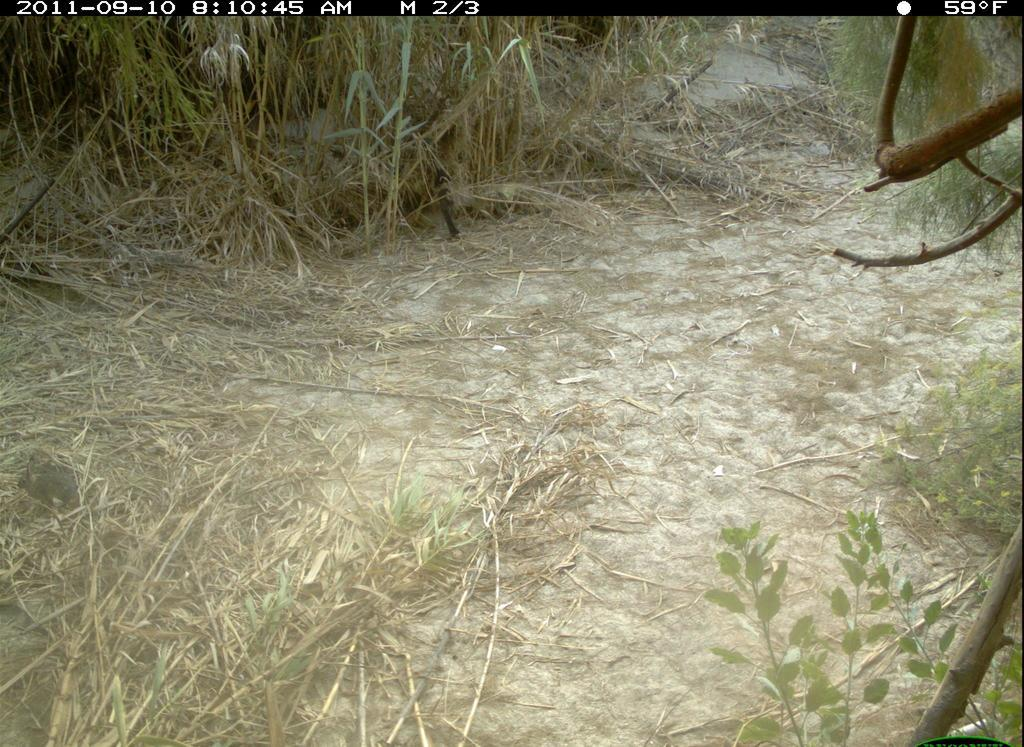rabbit: (27, 459, 88, 514)
